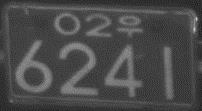0: (52, 11, 80, 35)
1: (152, 45, 183, 100)
2: (58, 40, 99, 97), (85, 11, 112, 38)
4: (104, 43, 143, 98)
6: (14, 40, 53, 93)
우: (116, 13, 144, 37)
